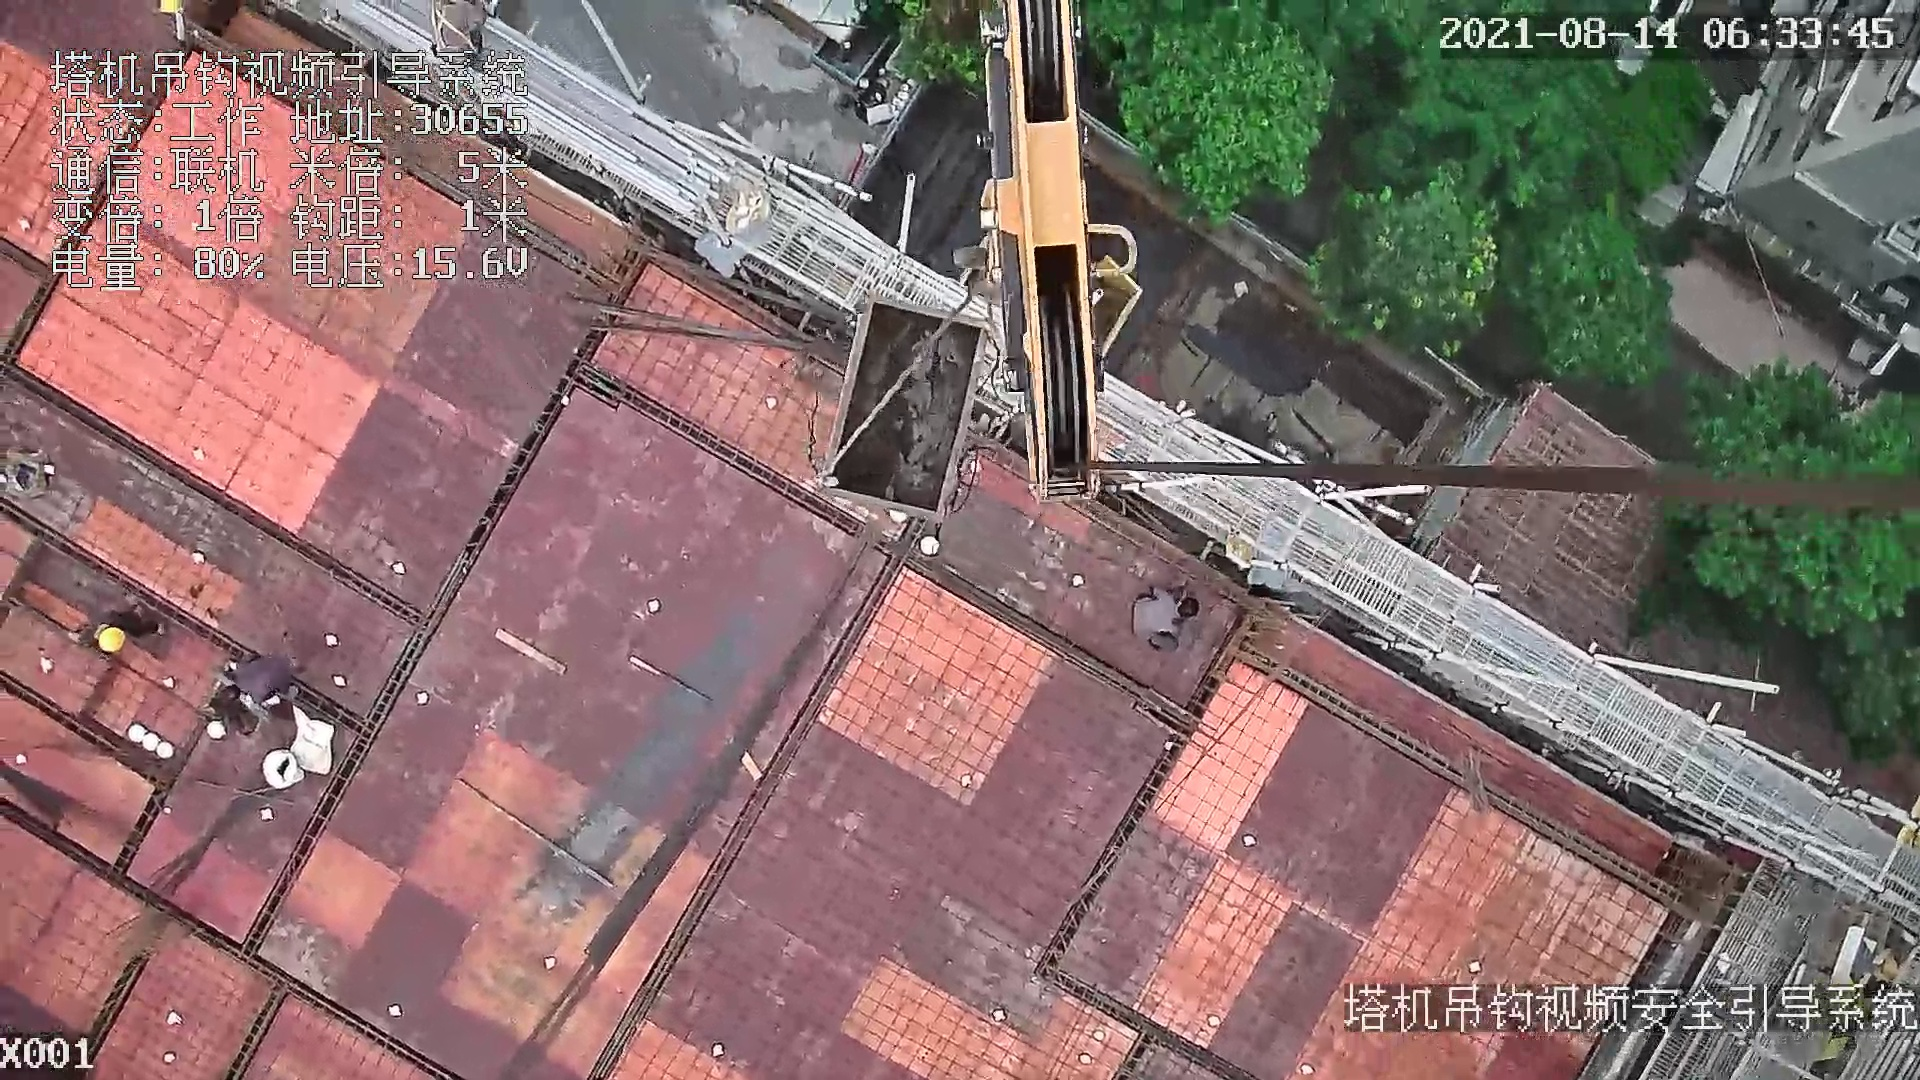helmet: (94, 626, 128, 659)
hook: (963, 6, 1142, 515)
hopper: (826, 287, 987, 533)
person: (1119, 577, 1204, 659), (210, 651, 300, 719), (72, 608, 177, 658)
